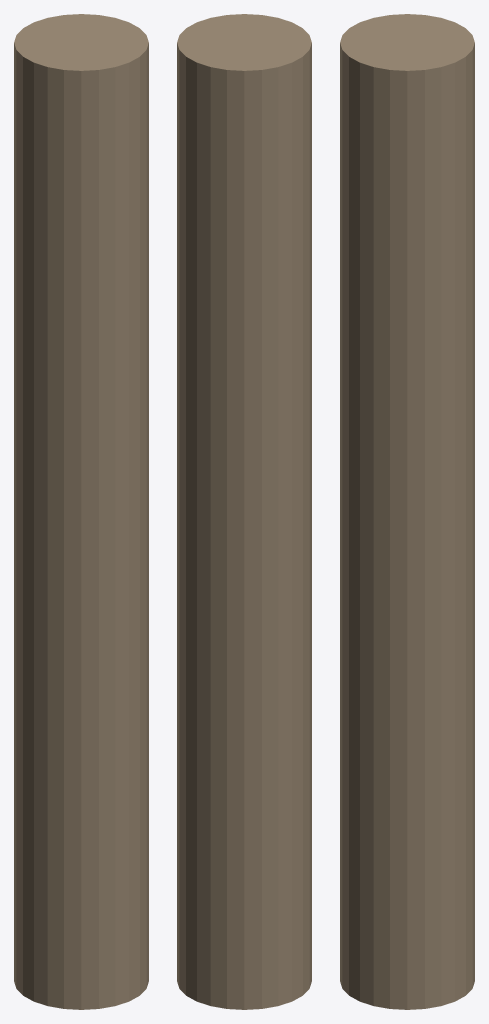
The model's file is own_cyl_32x246x32_5a4630.glb.
The picture shows the model from 3 angles, left to right: view 1: azimuth 30°, elevation 25°; view 2: azimuth 150°, elevation 25°; view 3: azimuth 330°, elevation 25°; orthographic projection.
Parts seen in each view (by area): view 1: geometry_0; view 2: geometry_0; view 3: geometry_0.
Boxes of the visible parts, bbox=[...] form: geometry_0: bbox=[14, 14, 148, 1009]; geometry_0: bbox=[177, 14, 311, 1009]; geometry_0: bbox=[340, 14, 474, 1009].
Bounding box in the file's own units: 0.32 × 2.46 × 0.32.
